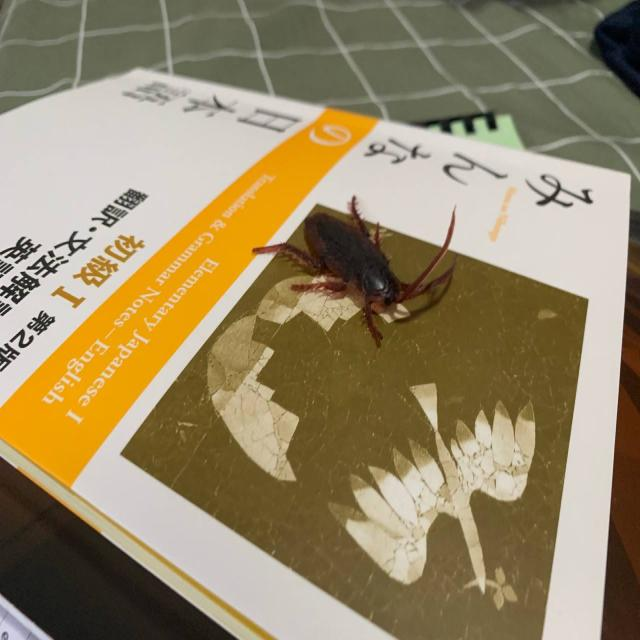Cockroach: (251, 181, 464, 360)
